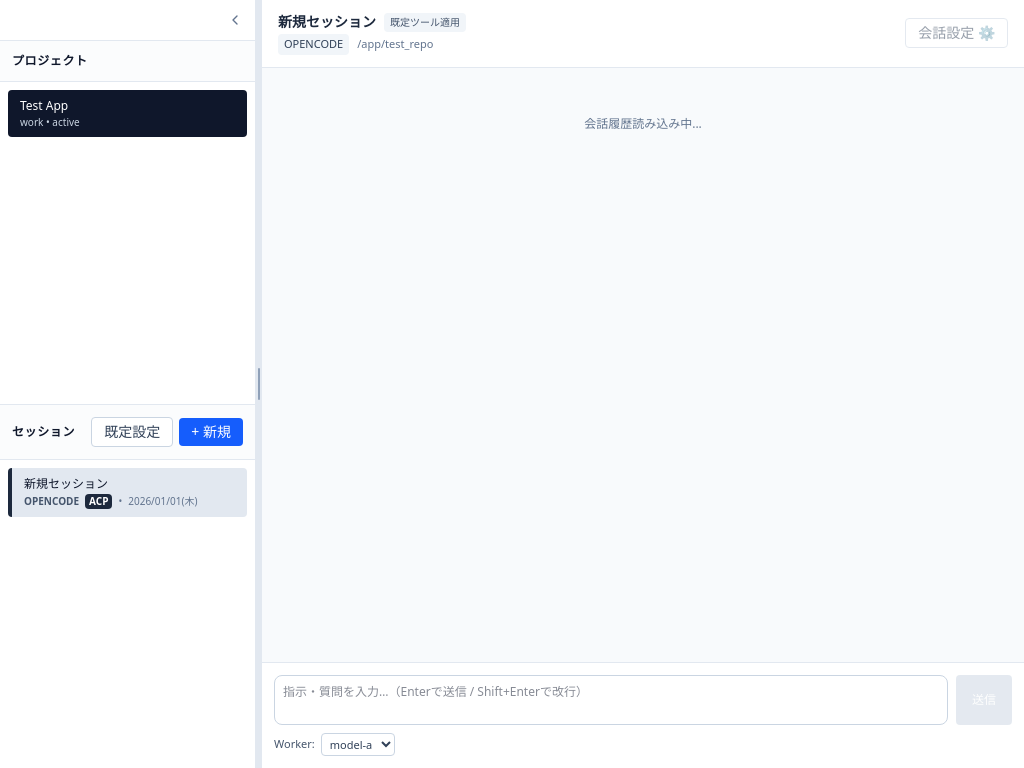
Test case: CodingPage › updates session title when coding CLI response event contains session_title
The width and height of the screenshot is (1024, 768).
Expected: the text "Test App" is shown, [20,97,68,114]
Type "タイトル生成" into the text box with placeholder "指示・質問を入力…（Enterで送信 / Shift+Enterで改行）". click: (611, 700)
box: [274,675,948,725]
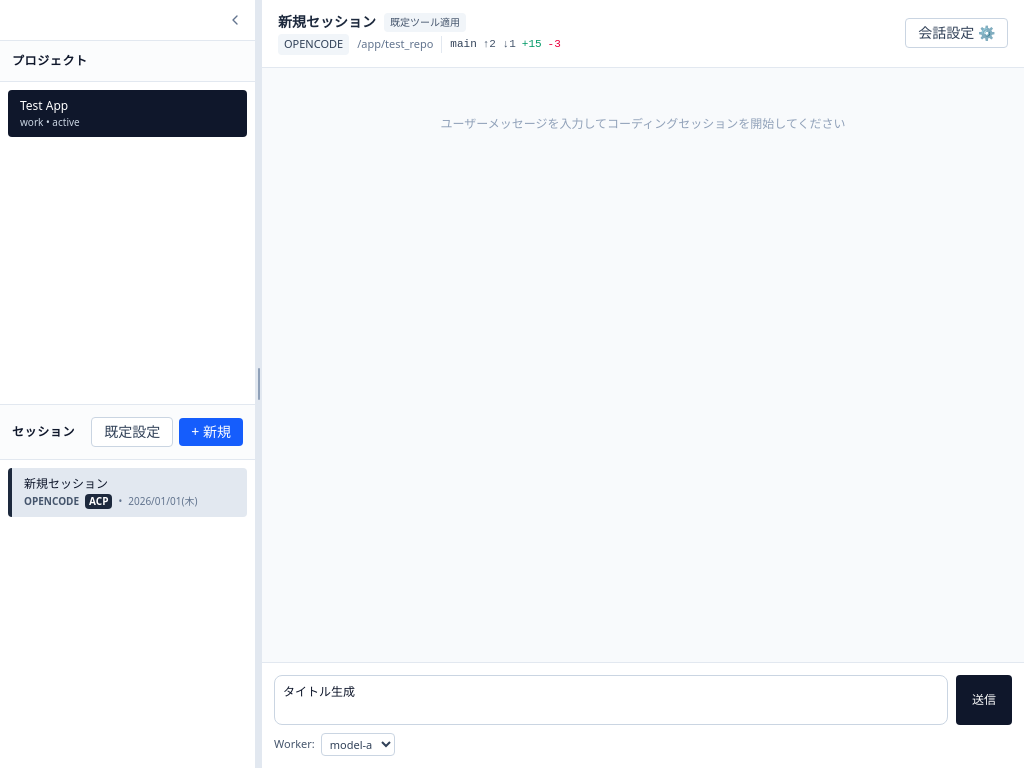
Click the button "送信". click: (984, 700)
box: [956,675,1012,725]
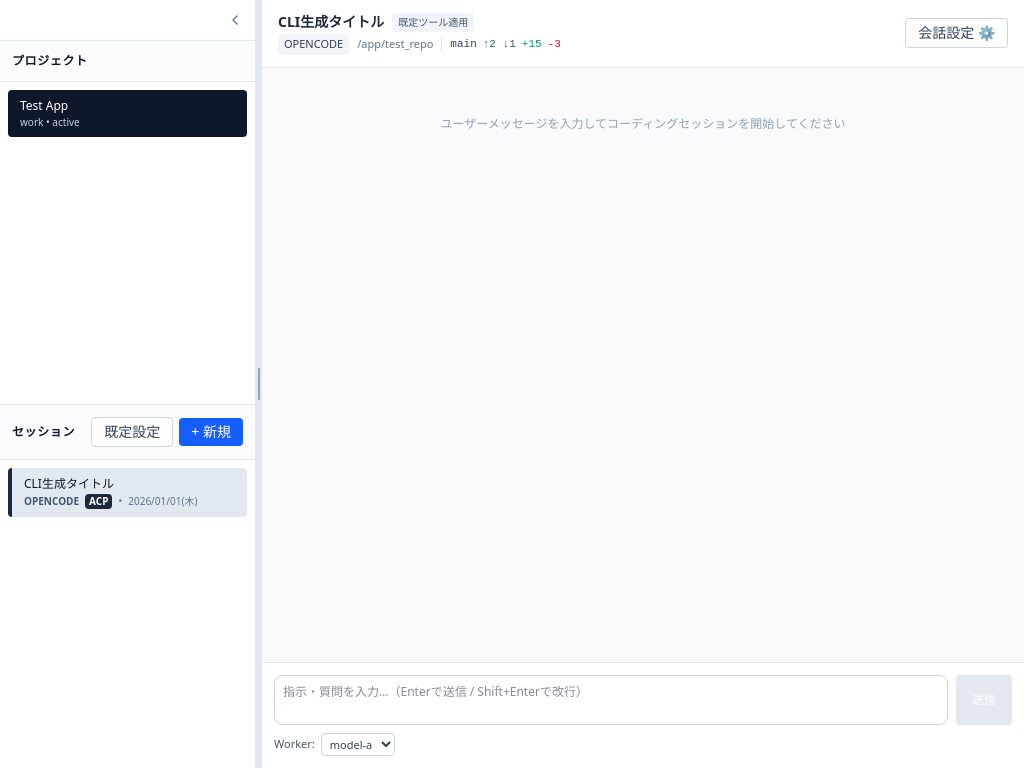
Expected: the text "CLI生成タイトル" is shown, [24,475,114,492]
